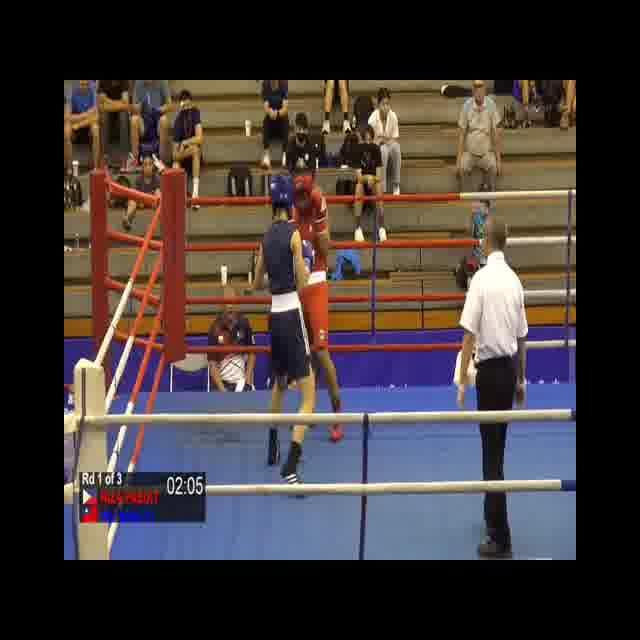blue-player: (250, 169, 319, 500)
red-player: (280, 166, 348, 446)
referee: (454, 212, 531, 559)
